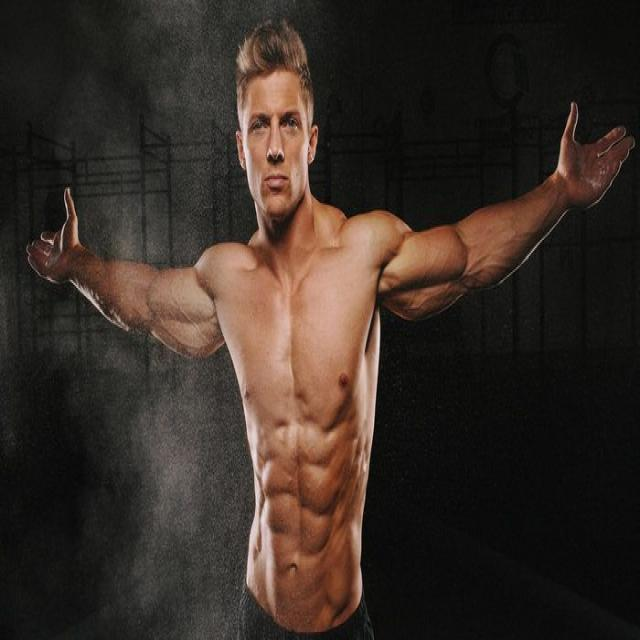human: (23, 9, 635, 640)
